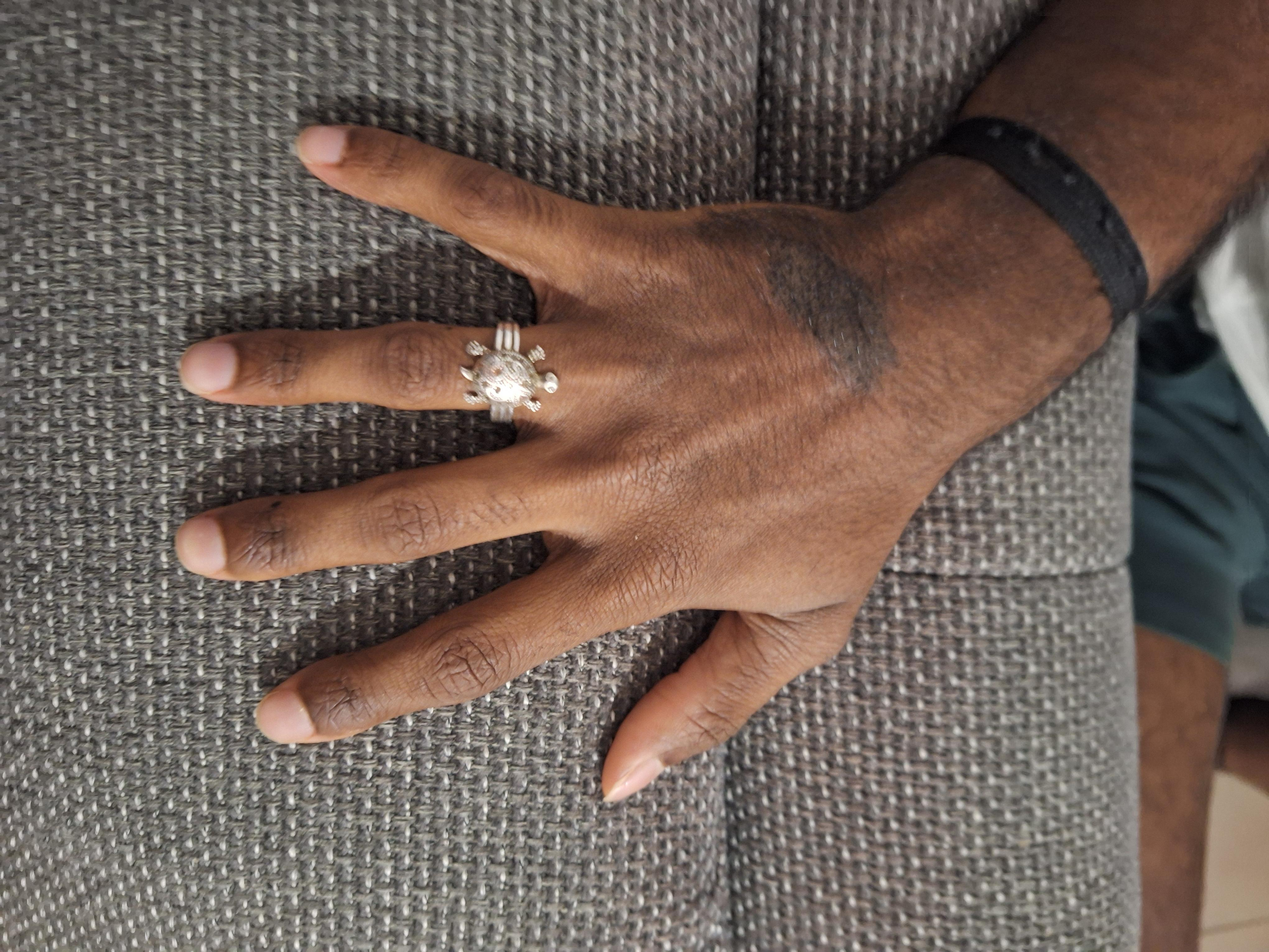Fingernail: (256, 690, 316, 745), (175, 517, 227, 578), (180, 343, 237, 395), (604, 758, 665, 803), (296, 125, 345, 165)
